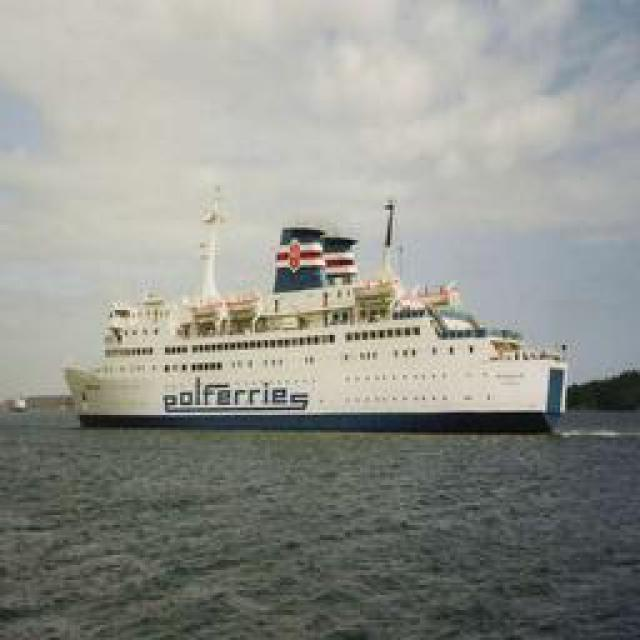Ship: (69, 189, 582, 434)
